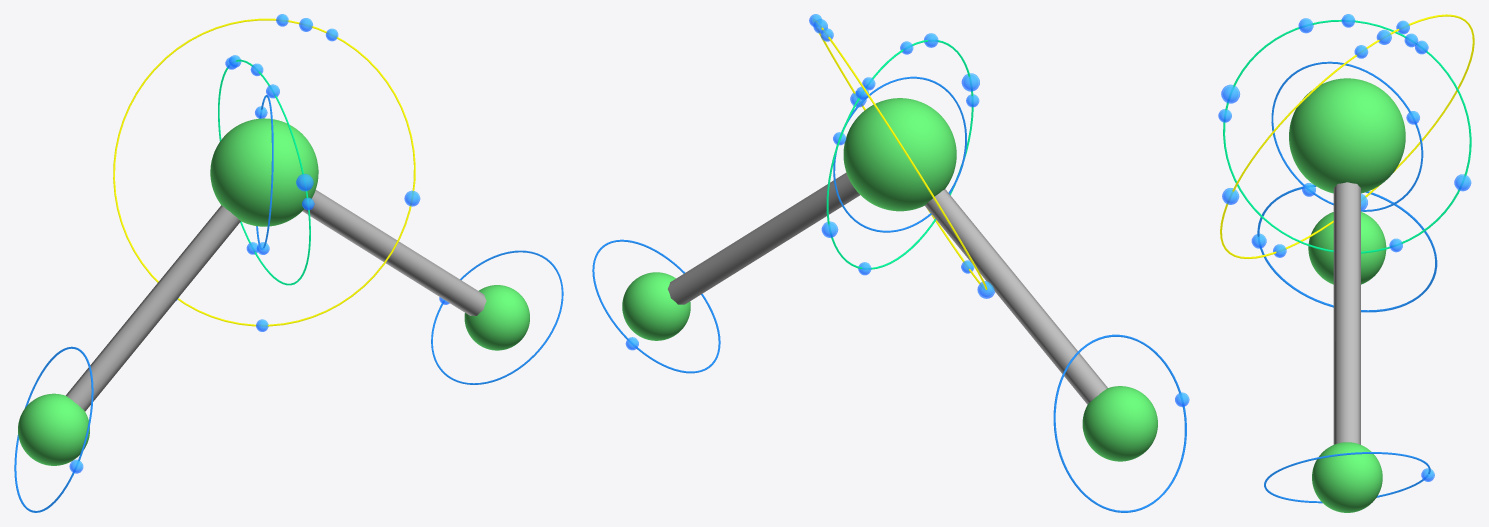
3 views of the same model, side by side, from view 1: azimuth 30°, elevation 25°; view 2: azimuth 150°, elevation 25°; view 3: azimuth 270°, elevation 25° (orthographic). The views are drawn at different scales.
Parts seen in each view (by area): view 1: S, H (×2), object 45, object 46, object 32, object 6, object 2, object 15; view 2: S, H (×2), object 45, object 46, object 2, object 32, object 15, object 10, object 6; view 3: S, object 46, H (×2), object 15, object 32, object 10, object 2, object 6.
Boxes of the visible parts, left/top/right/bottom form: S: left=210, top=118, right=318, bottom=226; H (×2): left=18, top=285, right=529, bottom=465; object 45: left=66, top=205, right=240, bottom=411; object 46: left=302, top=190, right=486, bottom=315; object 32: left=113, top=18, right=415, bottom=326; object 6: left=431, top=250, right=563, bottom=384; object 2: left=14, top=346, right=93, bottom=512; object 15: left=218, top=59, right=310, bottom=285; S: left=843, top=98, right=956, bottom=211; H (×2): left=622, top=272, right=1157, bottom=461; object 45: left=924, top=189, right=1107, bottom=404; object 46: left=668, top=172, right=859, bottom=304; object 2: left=1053, top=334, right=1186, bottom=512; object 32: left=816, top=21, right=987, bottom=289; object 15: left=826, top=40, right=973, bottom=269; object 10: left=833, top=76, right=966, bottom=232; object 6: left=592, top=239, right=720, bottom=373; S: left=1289, top=78, right=1405, bottom=193; object 46: left=1333, top=182, right=1360, bottom=444; H (×2): left=1308, top=212, right=1386, bottom=512; object 15: left=1223, top=19, right=1471, bottom=253; object 32: left=1220, top=14, right=1474, bottom=258; object 10: left=1271, top=61, right=1423, bottom=211; object 2: left=1257, top=185, right=1437, bottom=312; object 6: left=1264, top=452, right=1430, bottom=503.
Size of the model in its own units: 9.52 by 7.01 by 3.72.
